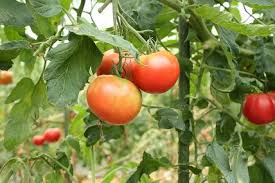tomato: (87, 75, 144, 125), (126, 52, 180, 95), (95, 49, 136, 85), (240, 92, 273, 124), (43, 128, 61, 144)
